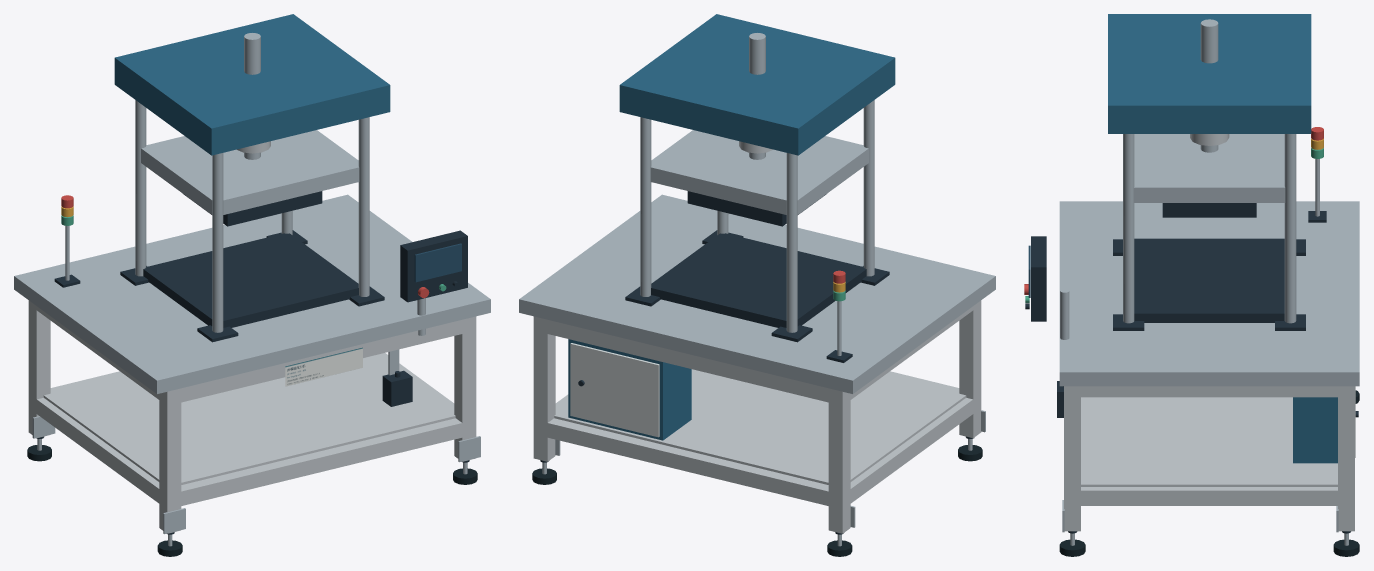
File: hot-forging-cell.glb
3 renders of one model, left to right at view 1: azimuth 30°, elevation 25°; view 2: azimuth 150°, elevation 25°; view 3: azimuth 270°, elevation 25°, orthographic. The views are drawn at different scales.
Visible parts, largest first — view 1: ClosedMachineBed_28, LowerShelf_29, PressCrown_56, LowerDie_61, ToolPlate_58, SlottedExtrusion_22, SlottedExtrusion_23, SlottedExtrusion_8, SlottedExtrusion_24, ConsoleBack_34, SlottedExtrusion_18, SlottedExtrusion_3 (+9 smaller); view 2: ClosedMachineBed_28, PressCrown_56, LowerShelf_29, LowerDie_61, ToolPlate_58, BackDoor_31, SlottedExtrusion_20, SlottedExtrusion_21, SlottedExtrusion_3, Cabinet_30, SlottedExtrusion_13, SlottedExtrusion_24 (+7 smaller); view 3: ClosedMachineBed_28, PressCrown_56, LowerShelf_29, LowerDie_61, ToolPlate_58, SlottedExtrusion_26, SlottedExtrusion_27, Cabinet_30, SlottedExtrusion_13, SlottedExtrusion_18, GuideColumn_52, GuideColumn_54 (+4 smaller).
Part boxes in pixels (x1,y1,x2,y2): ClosedMachineBed_28: (14, 194, 490, 393); LowerShelf_29: (43, 354, 455, 484); PressCrown_56: (114, 14, 390, 155); LowerDie_61: (143, 233, 358, 327); ToolPlate_58: (141, 130, 359, 214); SlottedExtrusion_22: (175, 418, 469, 507); SlottedExtrusion_23: (174, 318, 469, 402); SlottedExtrusion_8: (159, 388, 181, 533); SlottedExtrusion_24: (33, 397, 159, 503); ConsoleBack_34: (400, 230, 467, 302); SlottedExtrusion_18: (454, 316, 476, 461); SlottedExtrusion_3: (28, 300, 50, 437); ClosedMachineBed_28: (519, 194, 995, 393); PressCrown_56: (619, 14, 895, 155); LowerShelf_29: (554, 369, 966, 484); LowerDie_61: (651, 233, 866, 327); ToolPlate_58: (650, 130, 868, 214); BackDoor_31: (570, 343, 659, 437); SlottedExtrusion_20: (540, 418, 835, 507); SlottedExtrusion_21: (540, 318, 835, 402); SlottedExtrusion_3: (828, 388, 850, 533); Cabinet_30: (568, 339, 691, 440); SlottedExtrusion_13: (533, 316, 555, 461); SlottedExtrusion_24: (849, 397, 976, 503); ClosedMachineBed_28: (1059, 201, 1359, 386); PressCrown_56: (1108, 14, 1311, 133); LowerShelf_29: (1081, 397, 1337, 486); LowerDie_61: (1134, 238, 1284, 322); ToolPlate_58: (1133, 134, 1285, 202); SlottedExtrusion_26: (1072, 487, 1346, 505); SlottedExtrusion_27: (1072, 386, 1346, 397); Cabinet_30: (1293, 397, 1337, 463); SlottedExtrusion_13: (1338, 386, 1354, 531); SlottedExtrusion_18: (1064, 386, 1080, 531); GuideColumn_52: (1284, 134, 1296, 323); GuideColumn_54: (1123, 134, 1134, 323).
Size of the model in its own units: 1.55 by 1.91 by 1.29.
11 materials, 1 textured.
